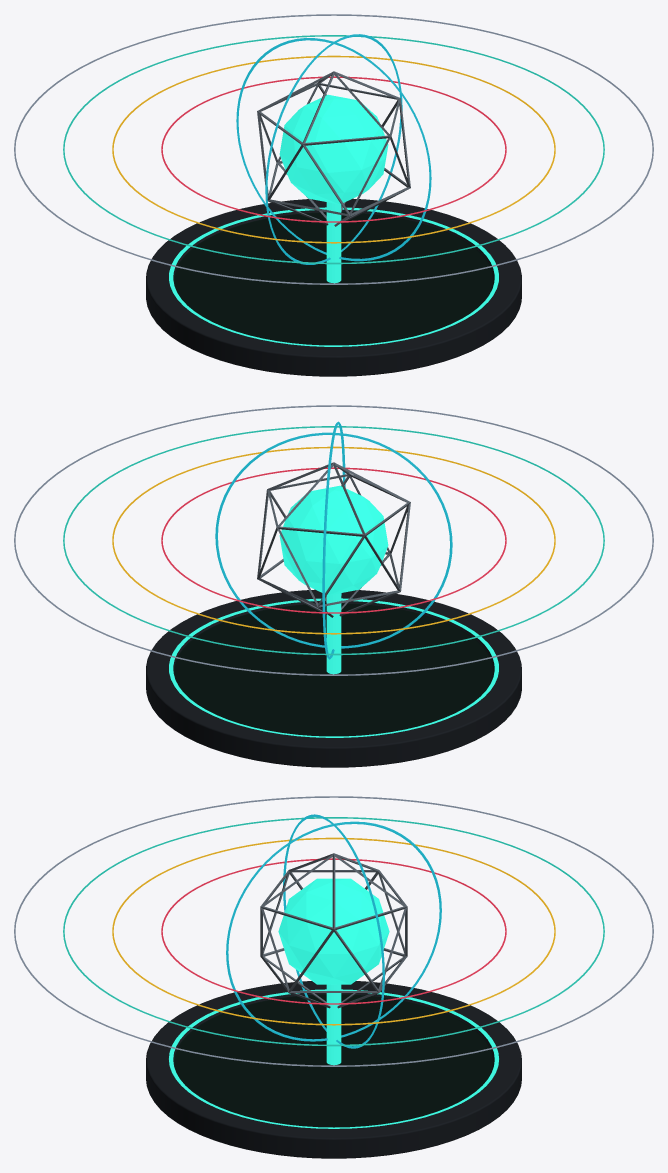
File: reactor.glb
3 views of the same model, one above another, from view 1: azimuth 30°, elevation 25°; view 2: azimuth 150°, elevation 25°; view 3: azimuth 270°, elevation 25° (orthographic).
Parts seen in each view (by area): view 1: Reactor_Pedestal, Reactor_Core, Reactor_Cage, Reactor_Shell_low, Reactor_Shell_medium, Reactor_Shell_high, Reactor_Gimbal_B, Reactor_Shell_critical, Reactor_Gimbal_A, Reactor_Beam; view 2: Reactor_Pedestal, Reactor_Core, Reactor_Cage, Reactor_Shell_low, Reactor_Shell_medium, Reactor_Shell_high, Reactor_Gimbal_A, Reactor_Shell_critical, Reactor_Beam, Reactor_Gimbal_B; view 3: Reactor_Pedestal, Reactor_Core, Reactor_Cage, Reactor_Shell_low, Reactor_Shell_medium, Reactor_Shell_high, Reactor_Gimbal_B, Reactor_Shell_critical, Reactor_Gimbal_A, Reactor_Beam.
Part boxes in pixels (bbox=[...]): Reactor_Pedestal: bbox=[146, 198, 521, 376]; Reactor_Core: bbox=[279, 94, 388, 204]; Reactor_Cage: bbox=[257, 71, 410, 226]; Reactor_Shell_low: bbox=[14, 14, 653, 284]; Reactor_Shell_medium: bbox=[63, 35, 604, 264]; Reactor_Shell_high: bbox=[112, 55, 555, 243]; Reactor_Gimbal_B: bbox=[236, 38, 431, 261]; Reactor_Shell_critical: bbox=[161, 76, 506, 222]; Reactor_Gimbal_A: bbox=[265, 34, 402, 264]; Reactor_Beam: bbox=[326, 202, 341, 283]; Reactor_Pedestal: bbox=[146, 589, 521, 767]; Reactor_Core: bbox=[279, 485, 388, 595]; Reactor_Cage: bbox=[257, 462, 410, 617]; Reactor_Shell_low: bbox=[14, 405, 653, 675]; Reactor_Shell_medium: bbox=[63, 426, 604, 655]; Reactor_Shell_high: bbox=[112, 446, 555, 634]; Reactor_Gimbal_A: bbox=[215, 432, 452, 648]; Reactor_Shell_critical: bbox=[161, 467, 506, 613]; Reactor_Beam: bbox=[326, 593, 341, 674]; Reactor_Gimbal_B: bbox=[322, 421, 345, 659]; Reactor_Pedestal: bbox=[146, 981, 521, 1158]; Reactor_Core: bbox=[278, 878, 389, 984]; Reactor_Cage: bbox=[260, 853, 407, 1008]; Reactor_Shell_low: bbox=[14, 796, 653, 1066]; Reactor_Shell_medium: bbox=[63, 817, 604, 1046]; Reactor_Shell_high: bbox=[112, 837, 555, 1025]; Reactor_Gimbal_B: bbox=[226, 821, 441, 1041]; Reactor_Shell_critical: bbox=[161, 858, 506, 1004]; Reactor_Gimbal_A: bbox=[283, 814, 384, 1048]; Reactor_Beam: bbox=[326, 984, 341, 1065].
Size of the model in its own units: 3.91 by 1.73 by 3.91.
